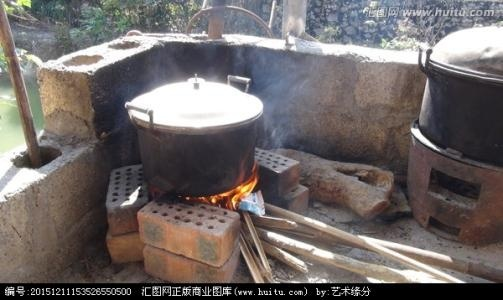fire: (194, 163, 259, 206)
